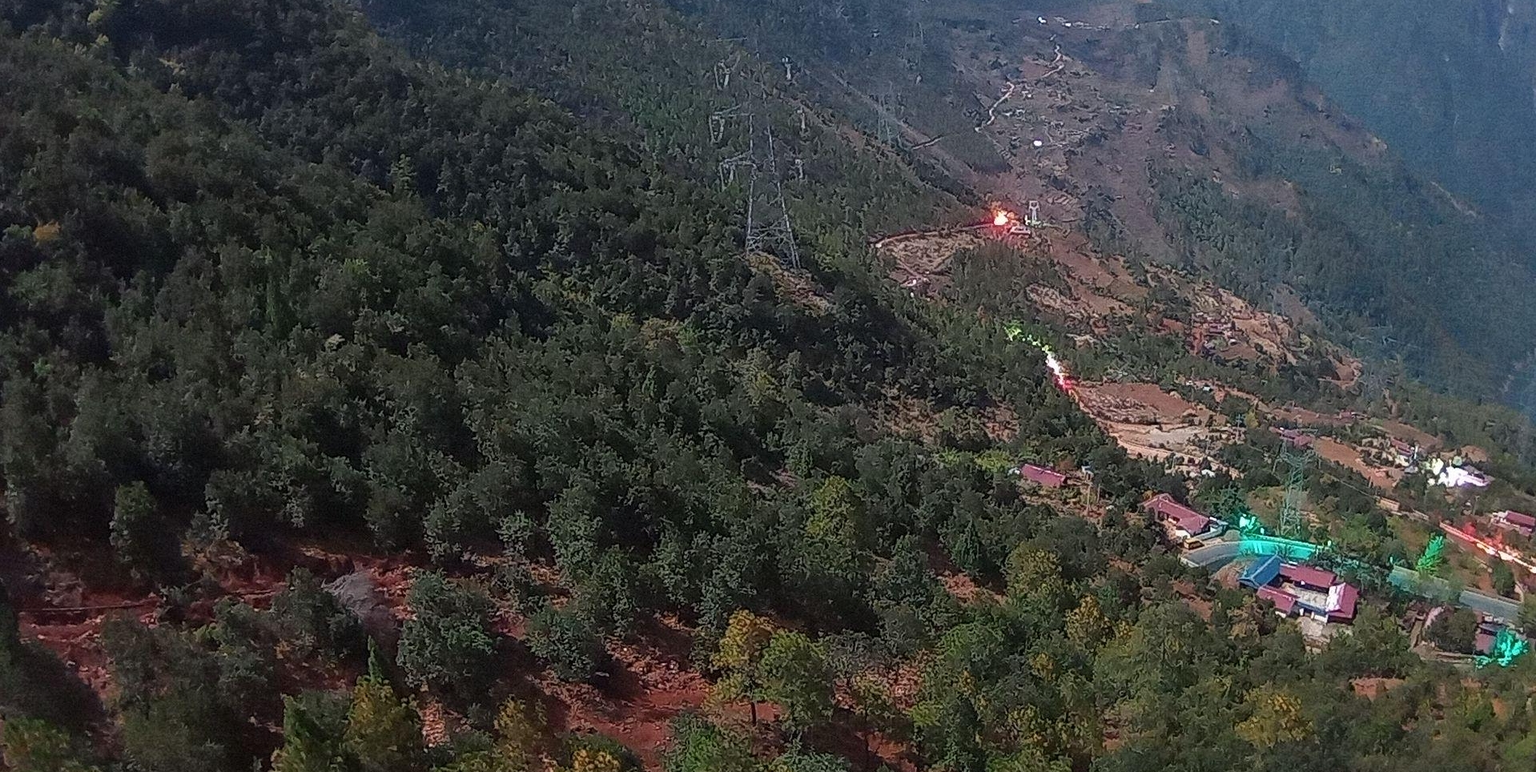山火: (993, 210, 1008, 225)
